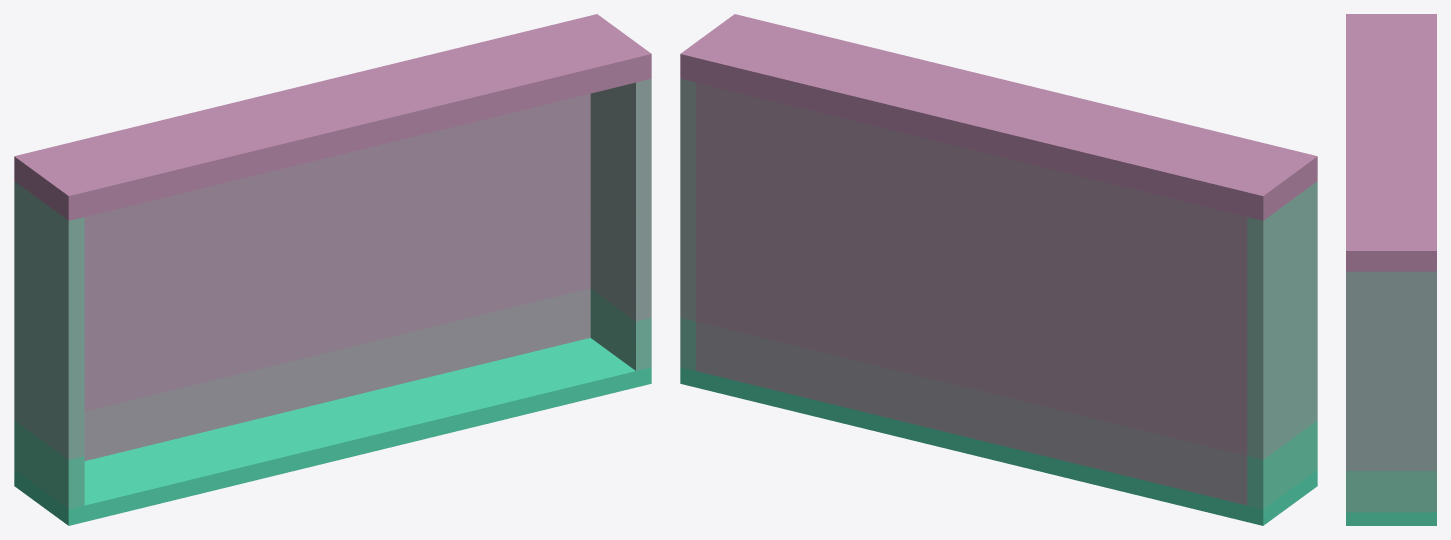
The model's file is HallEnd.gltf.
3 renders of one model, left to right at view 1: azimuth 30°, elevation 25°; view 2: azimuth 150°, elevation 25°; view 3: azimuth 270°, elevation 25°, orthographic. The views are drawn at different scales.
Visible parts, largest first — view 1: HallEnd; view 2: HallEnd; view 3: HallEnd.
Boxes of the visible parts, x1,y1,x2,y2 form: HallEnd: [14, 14, 651, 525]; HallEnd: [680, 14, 1317, 525]; HallEnd: [1346, 14, 1436, 525].
Size of the model in its own units: 14.8 by 8 by 2.4.
